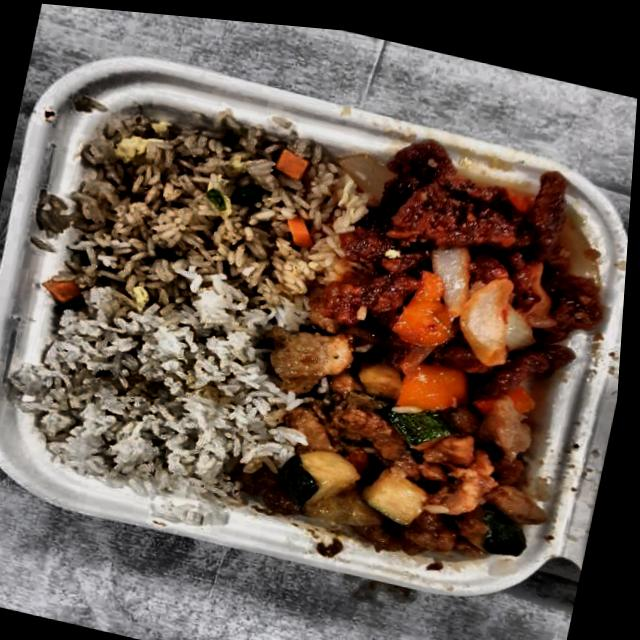Food: (36, 74, 379, 371), (299, 108, 635, 395), (256, 321, 577, 577), (13, 290, 292, 508)
